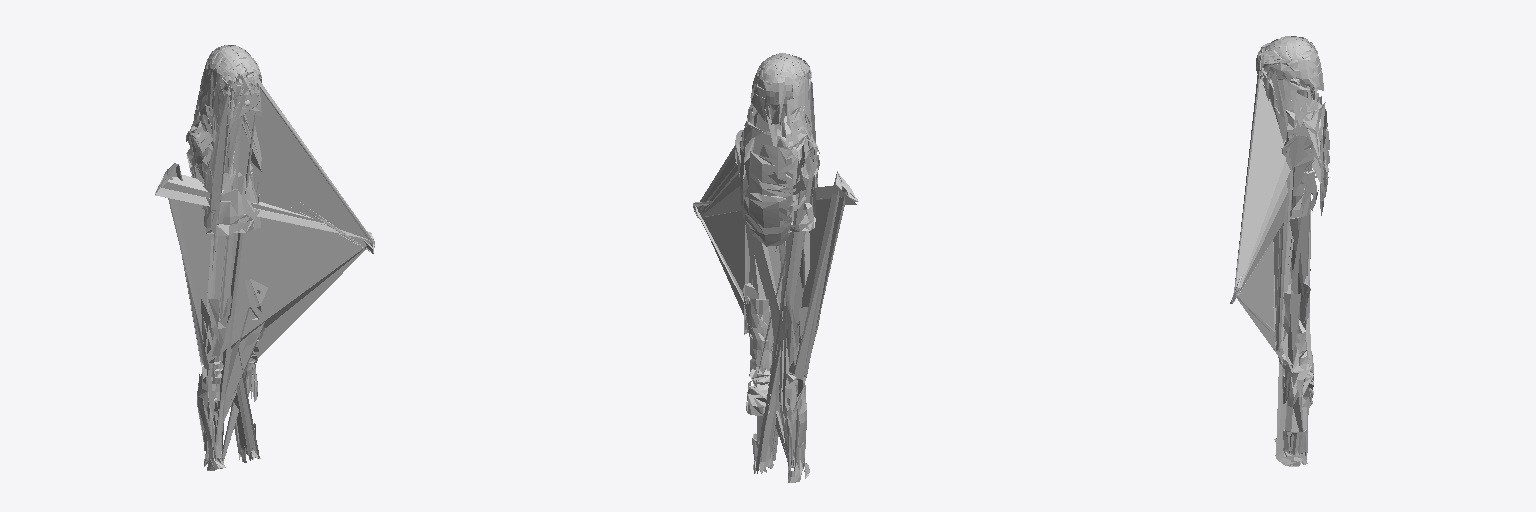
Rendered from alma.obj.
3 views of the same model, side by side, from view 1: azimuth 30°, elevation 25°; view 2: azimuth 150°, elevation 25°; view 3: azimuth 270°, elevation 25° (orthographic).
Visible parts, largest first — view 1: Model001_25_body_0.7_0_0; view 2: Model001_25_body_0.7_0_0, Model001_24_head_0.7_0_0; view 3: Model001_25_body_0.7_0_0, Model001_24_head_0.7_0_0.
Part boxes in pixels (bbox=[...]): Model001_25_body_0.7_0_0: bbox=[155, 45, 374, 470]; Model001_25_body_0.7_0_0: bbox=[693, 53, 858, 482]; Model001_24_head_0.7_0_0: bbox=[757, 55, 804, 135]; Model001_25_body_0.7_0_0: bbox=[1230, 36, 1329, 466]; Model001_24_head_0.7_0_0: bbox=[1265, 37, 1317, 97].
Bounding box in the file's own units: 0.6446 × 1.33 × 0.2882.